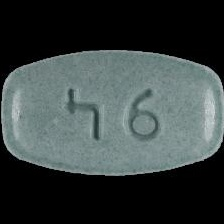50268-087: (0, 0, 224, 224)
